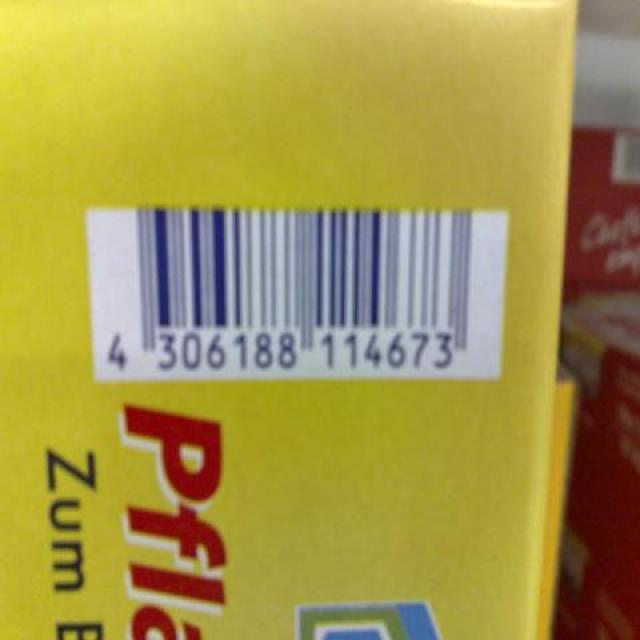Barcode: (87, 208, 510, 379)
